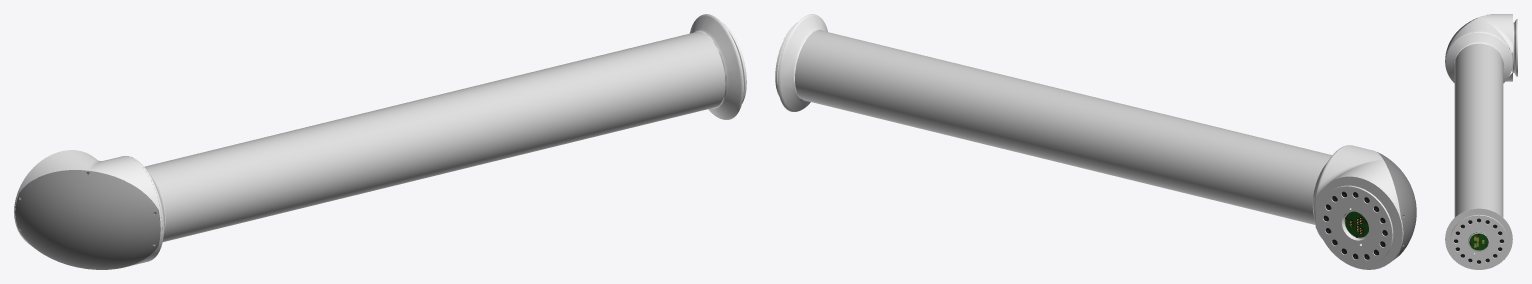
The picture shows the model from 3 angles, left to right: view 1: azimuth 30°, elevation 25°; view 2: azimuth 150°, elevation 25°; view 3: azimuth 270°, elevation 25°; orthographic projection. The views are drawn at different scales.
Visible parts, largest first — view 1: L148.001; view 2: L148.001; view 3: L148.001.
Boxes of the visible parts, left/top/right/bottom form: L148.001: left=14, top=14, right=746, bottom=269; L148.001: left=775, top=14, right=1416, bottom=269; L148.001: left=1445, top=14, right=1517, bottom=269.
Bounding box in the file's own units: 1.08 × 0.148 × 0.1589.
